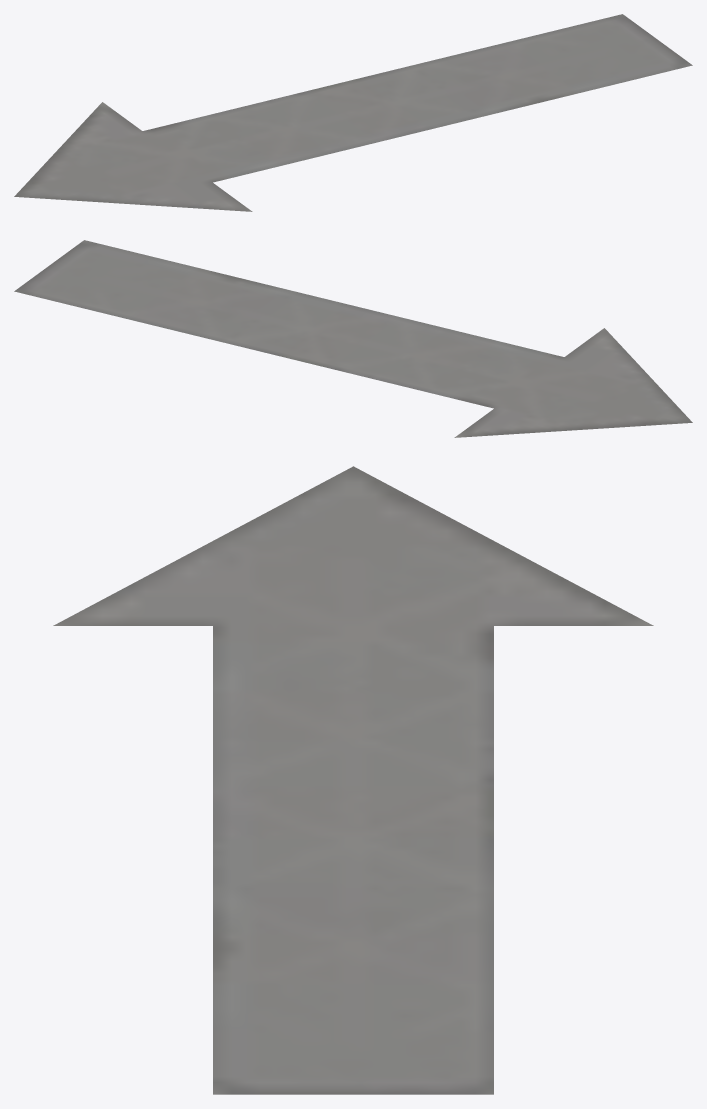
The model's file is pref_sm_4v4_city_hunt01_terrain_06d_lv3.fbx.
3 renders of one model, top to bottom at view 1: azimuth 30°, elevation 25°; view 2: azimuth 150°, elevation 25°; view 3: azimuth 270°, elevation 25°, orthographic. The views are drawn at different scales.
Visible parts, largest first — view 1: pref_sm_4v4_city_hunt01_terrain_06d_lv3; view 2: pref_sm_4v4_city_hunt01_terrain_06d_lv3; view 3: pref_sm_4v4_city_hunt01_terrain_06d_lv3.
Boxes of the visible parts, left/top/right/bottom form: pref_sm_4v4_city_hunt01_terrain_06d_lv3: left=14, top=14, right=692, bottom=211; pref_sm_4v4_city_hunt01_terrain_06d_lv3: left=14, top=240, right=692, bottom=437; pref_sm_4v4_city_hunt01_terrain_06d_lv3: left=53, top=466, right=653, bottom=1094.
Bounding box in the file's own units: 3.1 × 2.04e-07 × 1.25.
